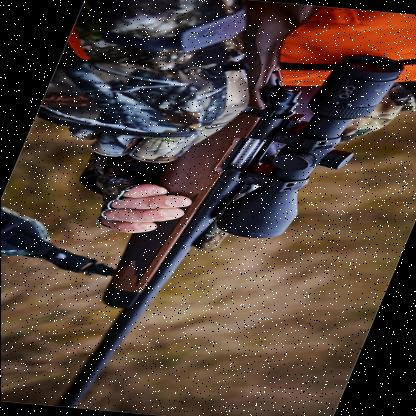rifle: (25, 2, 416, 416)
